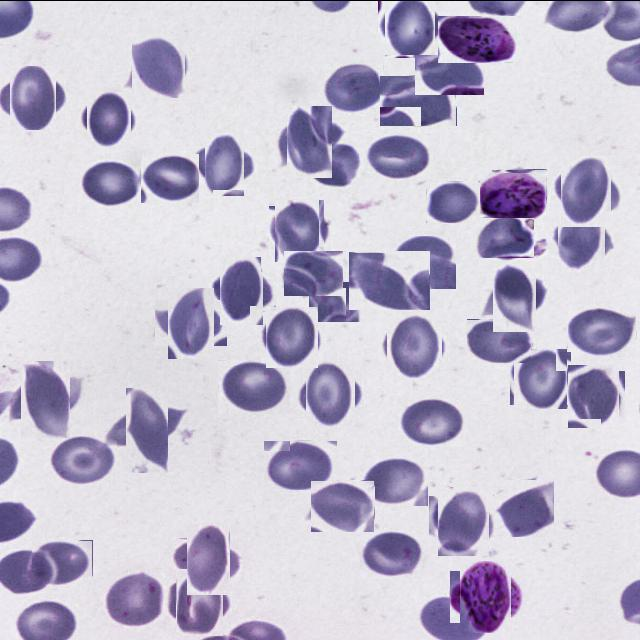gametocyte: (438, 16, 516, 64)
red blood cell: (349, 251, 430, 309), (13, 366, 77, 431), (115, 397, 179, 461), (380, 74, 457, 125), (218, 359, 290, 413), (556, 160, 617, 221), (264, 439, 338, 489), (568, 305, 636, 358), (434, 491, 494, 551), (390, 236, 456, 290), (384, 316, 444, 375), (280, 112, 340, 171), (397, 395, 465, 446), (102, 572, 166, 626), (48, 436, 117, 486), (162, 293, 220, 352), (494, 479, 554, 536), (564, 367, 622, 425), (170, 573, 228, 631), (130, 37, 188, 95), (179, 530, 237, 588), (486, 267, 544, 325), (311, 479, 375, 531), (302, 364, 359, 422), (360, 457, 428, 505), (512, 349, 569, 406), (553, 212, 610, 268), (365, 132, 434, 178), (322, 62, 384, 113), (272, 202, 328, 258), (214, 262, 270, 318), (264, 308, 320, 364), (5, 69, 60, 125), (360, 529, 422, 578), (382, 0, 439, 53), (81, 159, 142, 207), (314, 262, 368, 316), (32, 539, 93, 586), (467, 318, 532, 362), (140, 153, 198, 202), (415, 54, 484, 94), (198, 138, 250, 190), (284, 250, 343, 295), (307, 140, 362, 188), (84, 93, 134, 143), (476, 217, 534, 257), (426, 180, 481, 222)
schizont: (455, 566, 517, 628), (480, 168, 547, 220)
